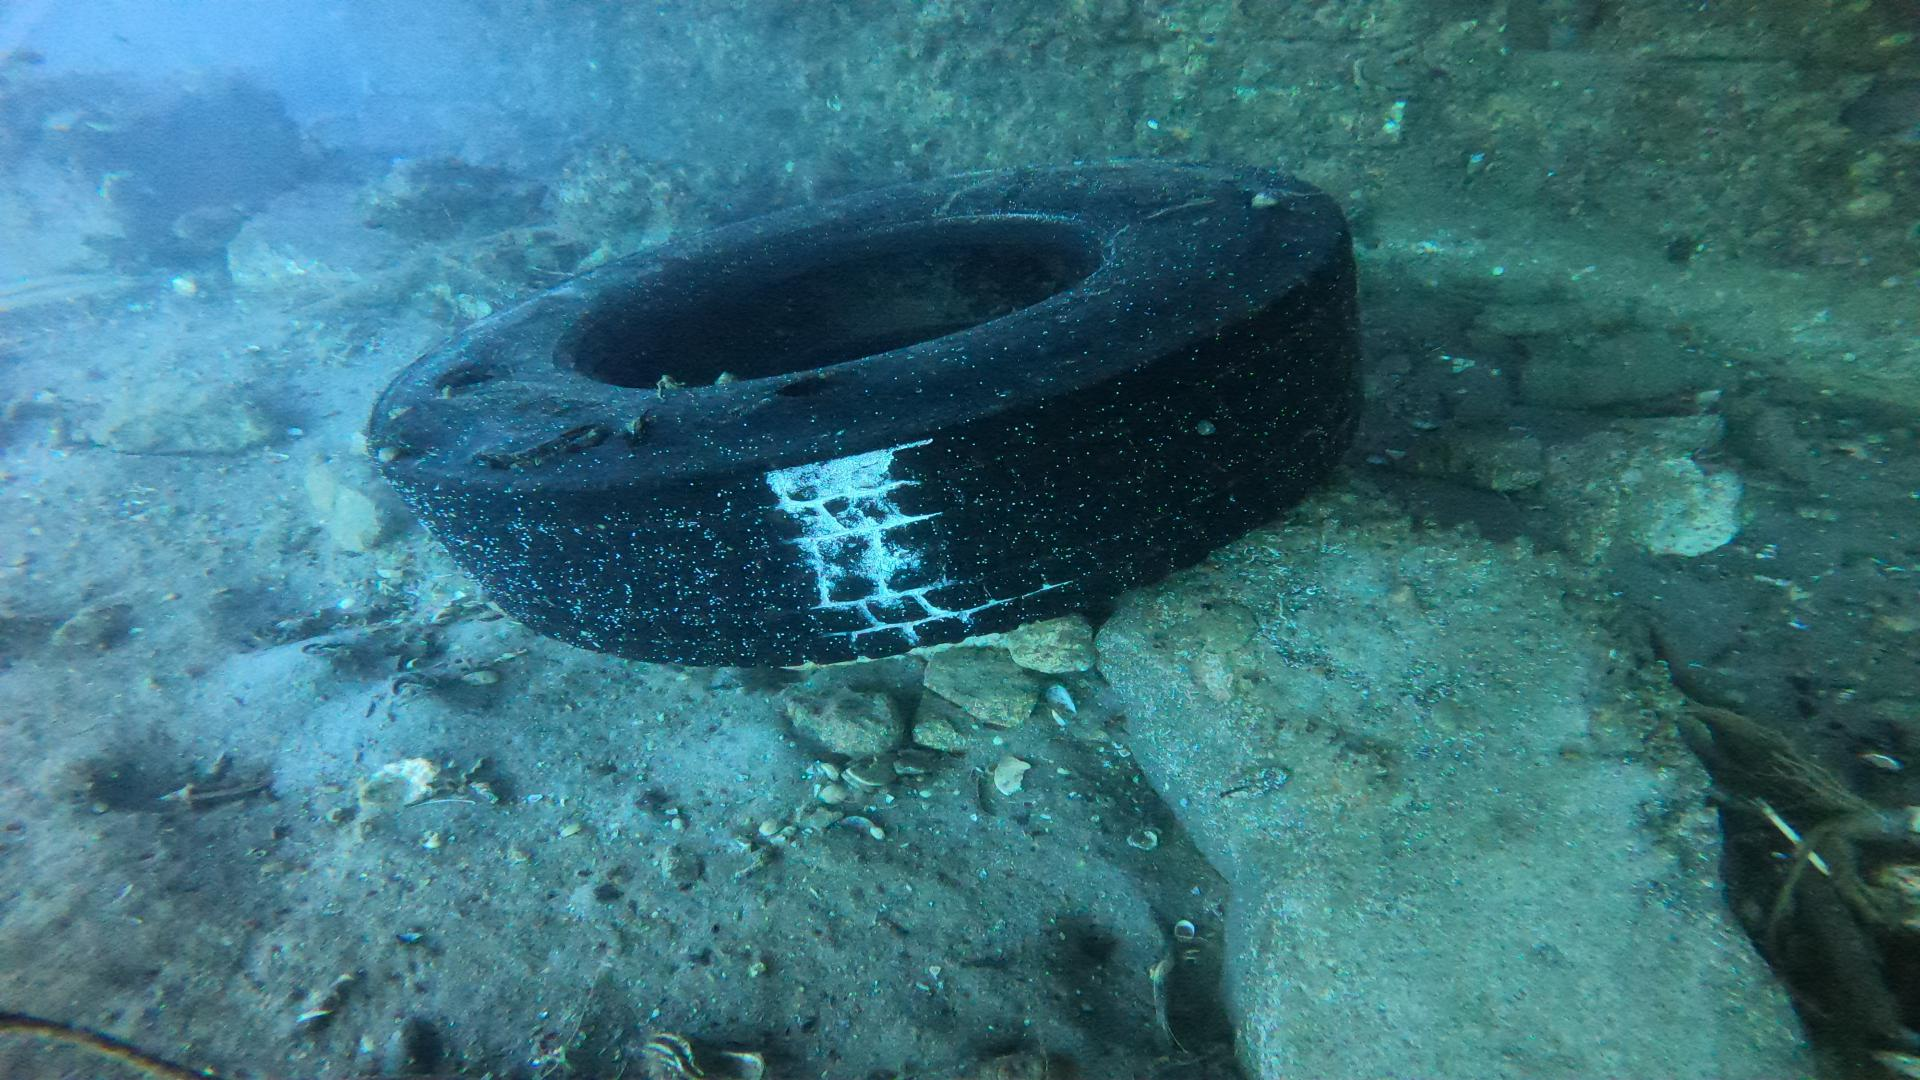tire: (364, 160, 1360, 666)
